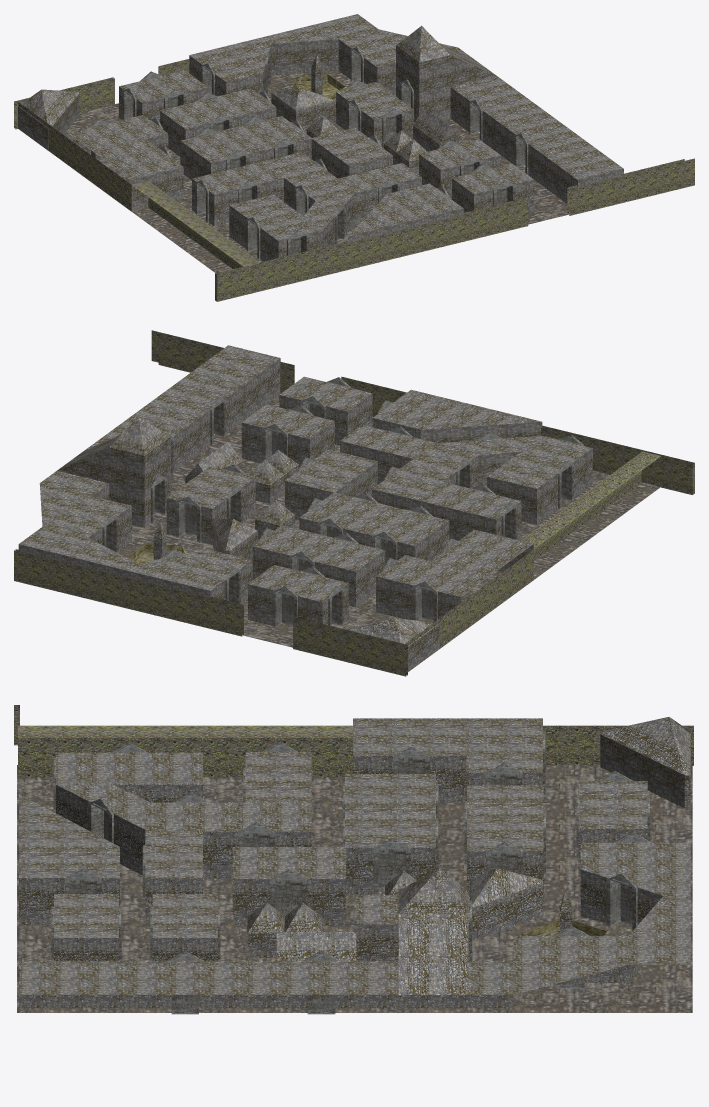
The model's file is mausoleum maze 02.FBX.
The picture shows the model from 3 angles, top to bottom: view 1: azimuth 30°, elevation 25°; view 2: azimuth 150°, elevation 25°; view 3: azimuth 270°, elevation 25°; orthographic projection. The views are drawn at different scales.
Visible parts, largest first — view 1: Box022, Plane067, mausoleum maze ground, Box030, Plane064, Box015, Box028, Box019, Box023, Box017, Box018, Box021 (+12 smaller); view 2: Box022, Plane066, mausoleum maze ground, Box030, Plane064, Box028, Box015, Plane067, Box023, Box019, Box017, Box021 (+12 smaller); view 3: Box022, mausoleum maze ground, Plane064, Box019, Box030, Box015, Box021, Box028, Box016, Box017, Box023, Line012 (+10 smaller).
Part boxes in pixels (box(x1,y1,x2,y2)): Box022: box(189, 14, 623, 203); Plane067: box(215, 158, 694, 301); mausoleum maze ground: box(49, 70, 569, 273); Box030: box(67, 115, 183, 211); Plane064: box(17, 101, 260, 268); Box015: box(180, 115, 311, 180); Box028: box(396, 25, 496, 122); Box019: box(262, 152, 357, 246); Box023: box(229, 194, 322, 261); Box017: box(160, 88, 276, 156); Box018: box(192, 161, 283, 226); Box021: box(348, 183, 463, 242); Box022: box(18, 345, 280, 603); Plane066: box(14, 549, 407, 676); mausoleum maze ground: box(118, 395, 660, 648); Box030: box(376, 529, 533, 622); Plane064: box(404, 451, 660, 658); Box028: box(57, 417, 171, 527); Box015: box(299, 492, 449, 564); Plane067: box(151, 330, 694, 494); Box023: box(487, 434, 592, 524); Box019: box(372, 432, 542, 510); Box017: box(252, 525, 385, 607); Box021: box(372, 389, 542, 443); Box022: box(19, 832, 690, 1014); mausoleum maze ground: box(17, 765, 692, 1012); Plane064: box(18, 725, 693, 777); Box019: box(56, 784, 311, 878); Box030: box(353, 718, 545, 802); Box015: box(342, 774, 438, 895); Box021: box(19, 794, 119, 924); Box028: box(398, 868, 468, 994); Box016: box(232, 847, 345, 925); Box017: box(464, 785, 545, 898); Box023: box(53, 742, 202, 813); Line012: box(600, 717, 690, 808).
Size of the model in its own units: 4274 by 745 by 3541.
